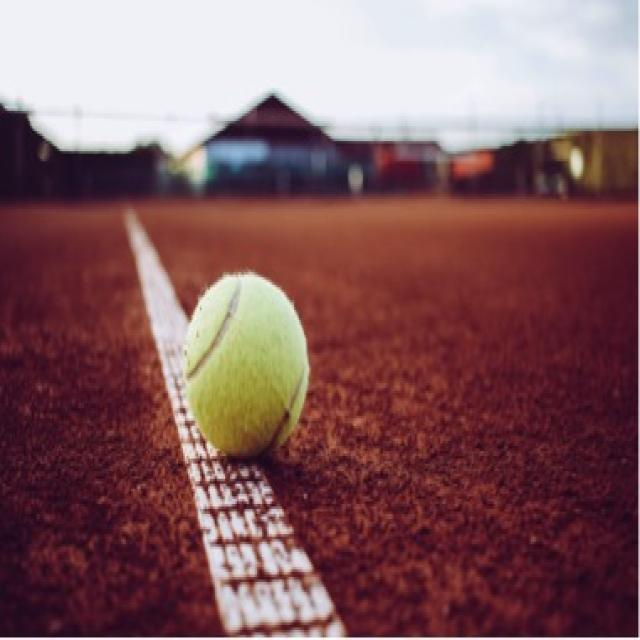Tennis Ball: (183, 272, 309, 459)
